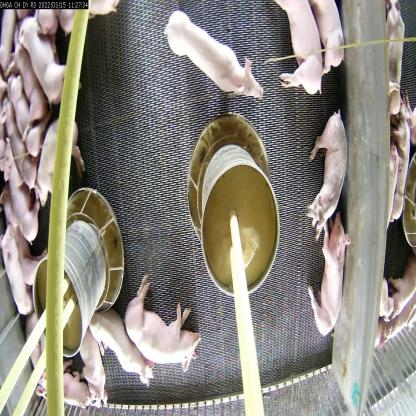Pig: (160, 5, 268, 116), (121, 269, 206, 367), (257, 0, 322, 98), (302, 113, 351, 231), (36, 111, 88, 221), (306, 217, 348, 340), (87, 311, 153, 388), (14, 18, 70, 107), (0, 146, 36, 249)
